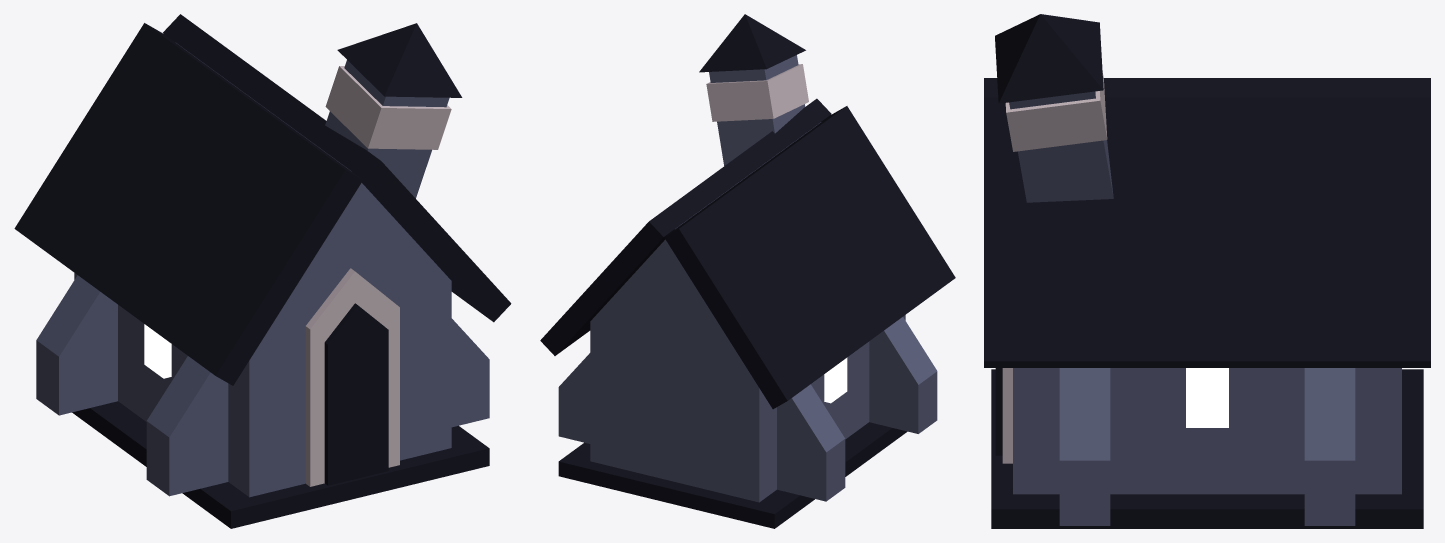
File: crypt.glb
3 views of the same model, side by side, from view 1: azimuth 30°, elevation 25°; view 2: azimuth 150°, elevation 25°; view 3: azimuth 270°, elevation 25° (orthographic). The views are drawn at different scales.
Visible parts, largest first — view 1: RoofL, Walls, Tower, RoofR, Plinth, Door, Gable, ButLF, ButLB, Frame, ButRF, WinL; view 2: RoofL, Walls, Tower, RoofR, Plinth, Gable, ButLB, ButLF, ButRB, WinL; view 3: RoofR, Walls, Tower, Plinth, ButRF, ButRB, RoofL, WinR, Frame, Door.
Part boxes in pixels (left/top/right/bottom): RoofL: left=14, top=23, right=362, bottom=385; Walls: left=74, top=273, right=451, bottom=497; Tower: left=325, top=23, right=462, bottom=198; RoofR: left=163, top=14, right=511, bottom=322; Plinth: left=72, top=401, right=489, bottom=528; Door: left=324, top=303, right=388, bottom=485; Gable: left=175, top=42, right=451, bottom=324; ButLF: left=146, top=356, right=228, bottom=496; ButLB: left=36, top=275, right=117, bottom=415; Frame: left=305, top=268, right=399, bottom=486; ButRF: left=451, top=318, right=489, bottom=427; WinL: left=144, top=324, right=171, bottom=378; RoofL: left=664, top=106, right=955, bottom=409; Walls: left=590, top=315, right=905, bottom=502; Tower: left=699, top=14, right=808, bottom=165; RoofR: left=540, top=98, right=831, bottom=355; Plinth: left=558, top=422, right=907, bottom=528; Gable: left=590, top=122, right=820, bottom=357; ButLB: left=777, top=384, right=845, bottom=501; ButLF: left=869, top=317, right=937, bottom=433; ButRB: left=558, top=353, right=590, bottom=443; WinL: left=824, top=357, right=847, bottom=403; RoofR: left=984, top=97, right=1430, bottom=367; Walls: left=1013, top=368, right=1401, bottom=494; Tower: left=995, top=14, right=1113, bottom=202; Plinth: left=991, top=369, right=1423, bottom=528; ButRF: left=1059, top=368, right=1110, bottom=525; ButRB: left=1304, top=368, right=1355, bottom=525; RoofL: left=984, top=78, right=1430, bottom=97; WinR: left=1186, top=368, right=1228, bottom=427; Frame: left=1002, top=368, right=1012, bottom=463; Door: left=995, top=368, right=1002, bottom=455.
Bounding box in the file's own units: 2.85 × 3.73 × 3.1.
